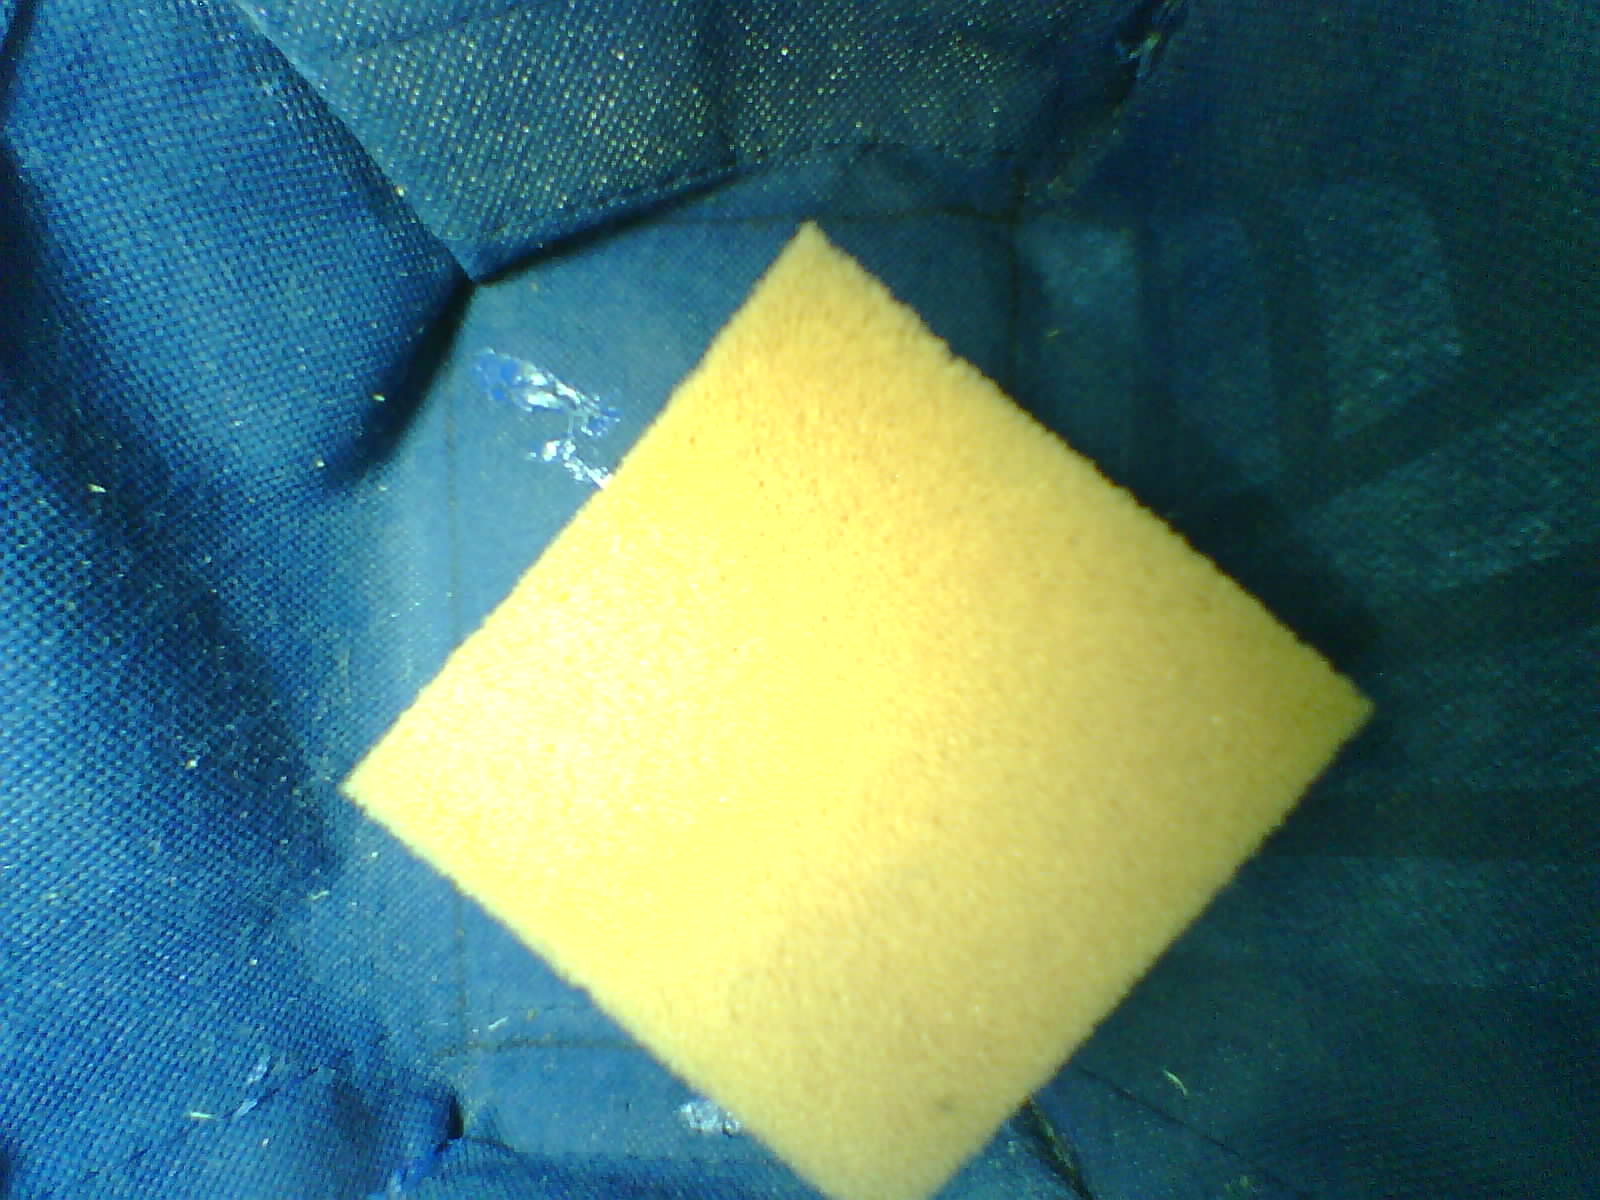cube-soft: (325, 213, 1392, 1200)
